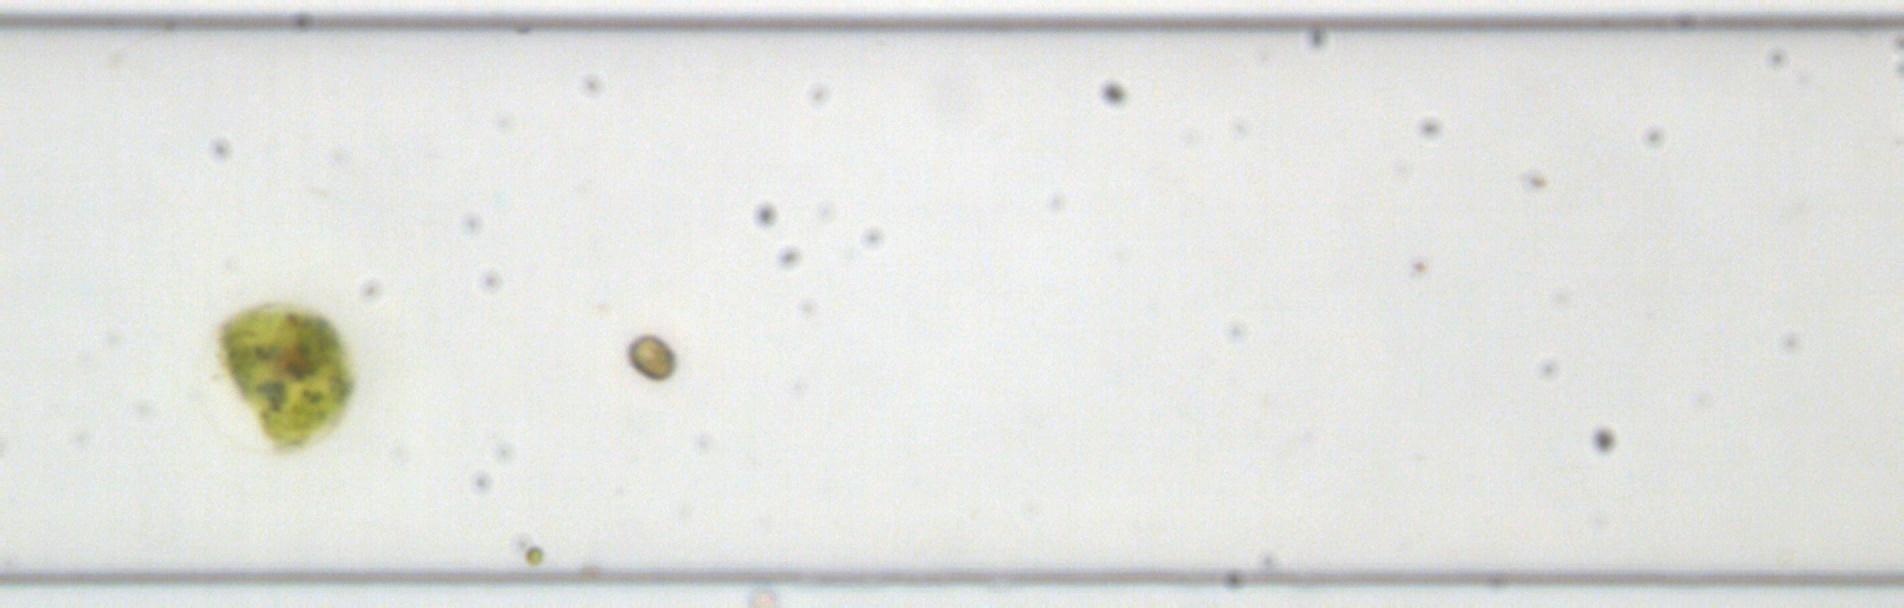Chlorella: (521, 542, 546, 567)
Effrenium: (627, 333, 679, 379)
Haematococcus: (212, 294, 357, 456)
